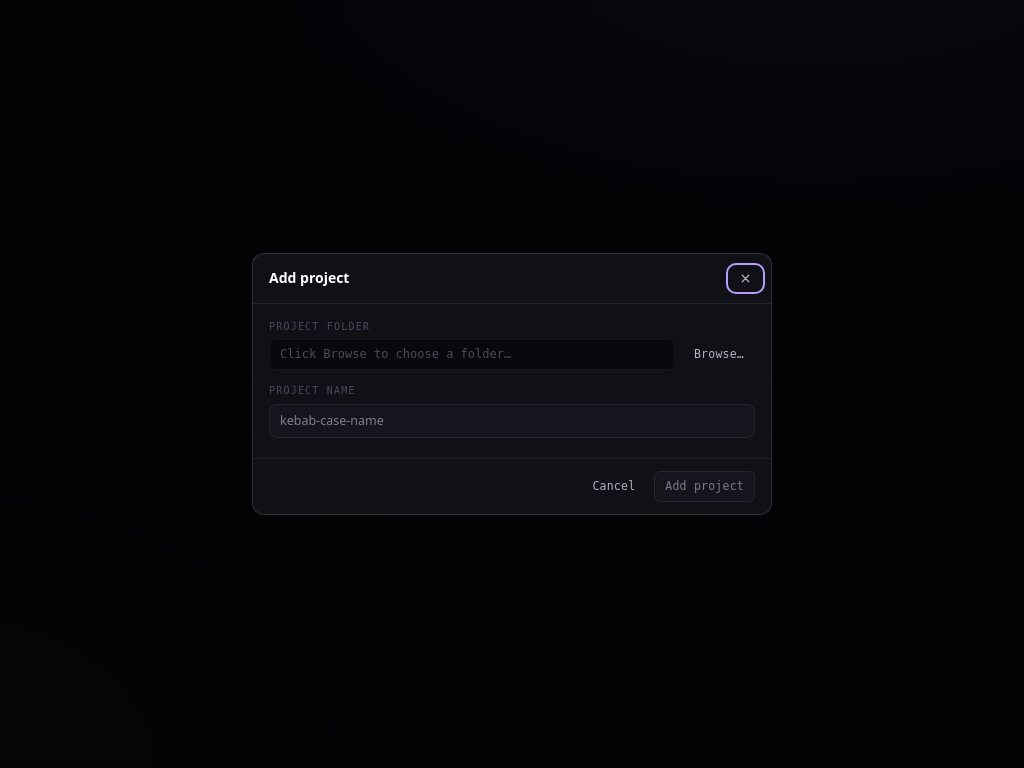
Scenario: AddProjectSheet › rejects invalid slug input
In the field with placeholder "kebab-case-name": x=512, y=421 [269, 404, 755, 438], type "Bad Name"
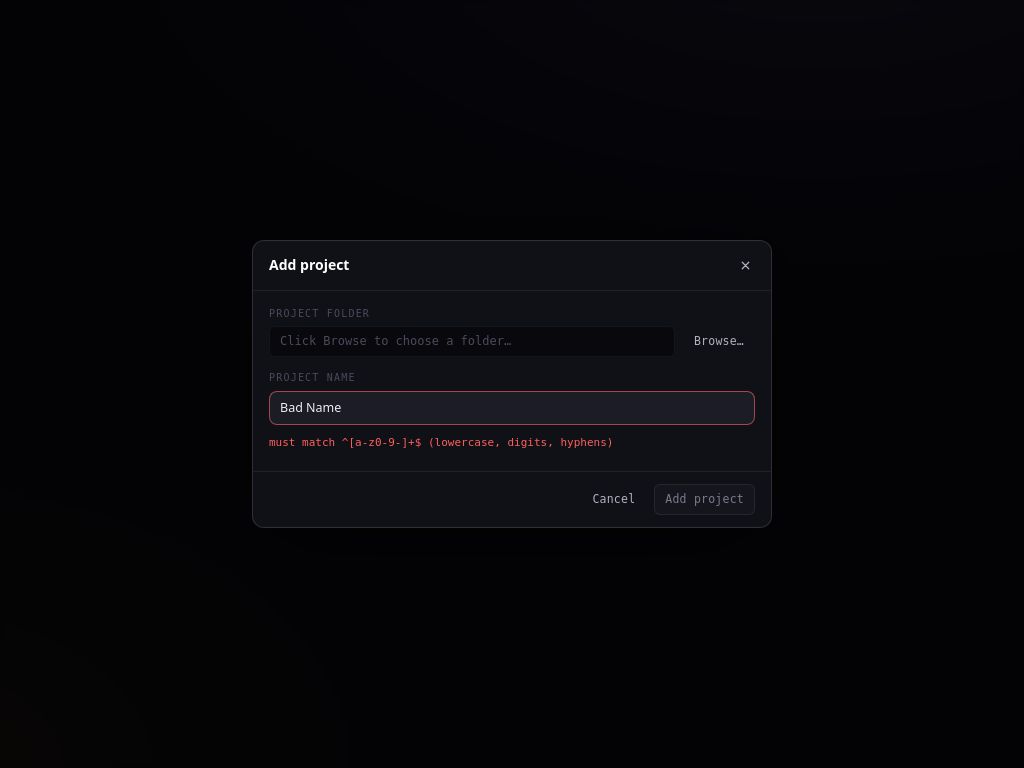
Result: the text "must match ^[a-z0-9-]+$ (lowercase, digits, hyphens)" is shown at [269, 436, 613, 449]
